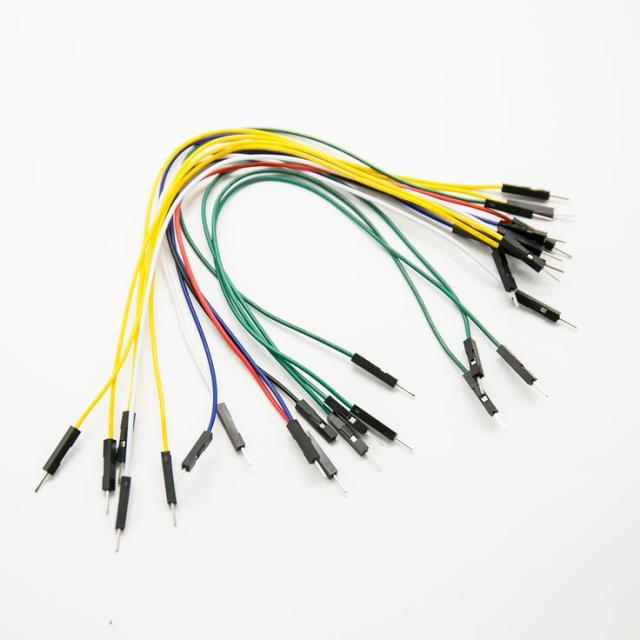Jumper Wires: (24, 97, 603, 567)
